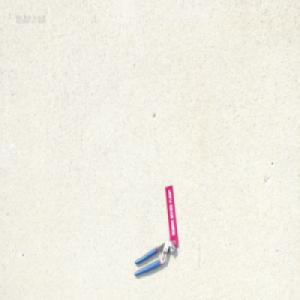Label: (165, 183, 178, 246)
Pliers: (133, 239, 176, 277)
